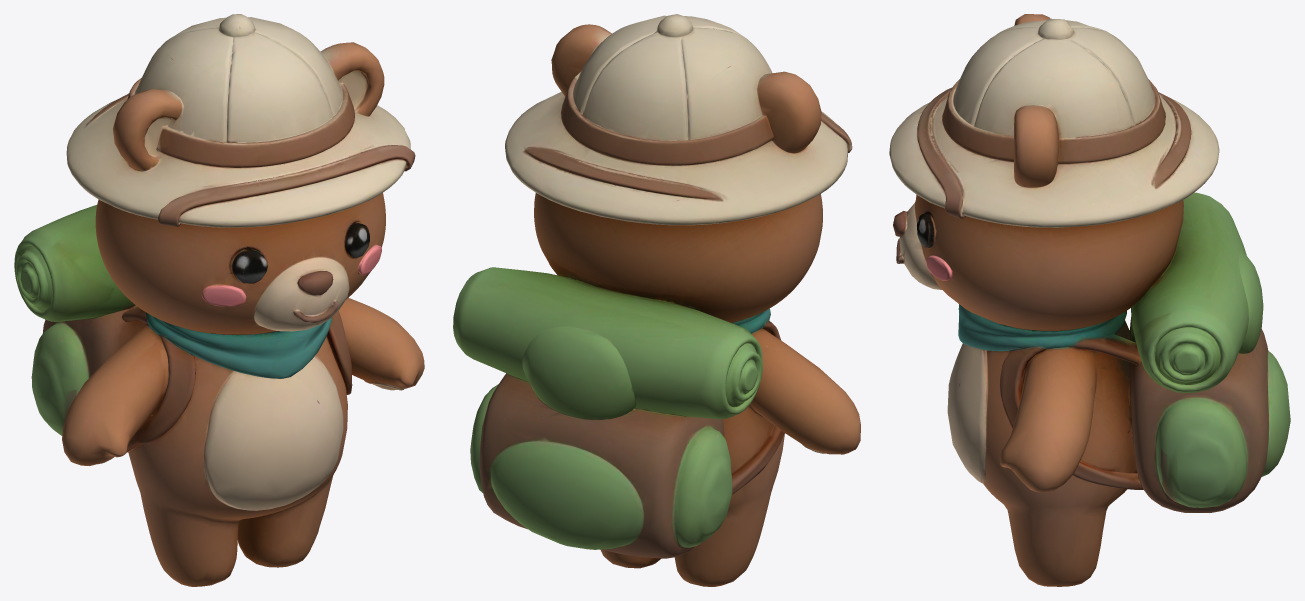
Rendered from npc_bear.glb.
3 views of the same model, side by side, from view 1: azimuth 30°, elevation 25°; view 2: azimuth 150°, elevation 25°; view 3: azimuth 270°, elevation 25° (orthographic). The views are drawn at different scales.
Visible parts, largest first — view 1: node_0; view 2: node_0; view 3: node_0.
Boxes of the visible parts, x1,y1,x2,y2 form: node_0: (14, 14, 424, 586); node_0: (453, 14, 860, 586); node_0: (889, 14, 1290, 586).
Size of the model in its own units: 0.7887 by 1.17 by 0.7866.
1 material, 1 textured.
